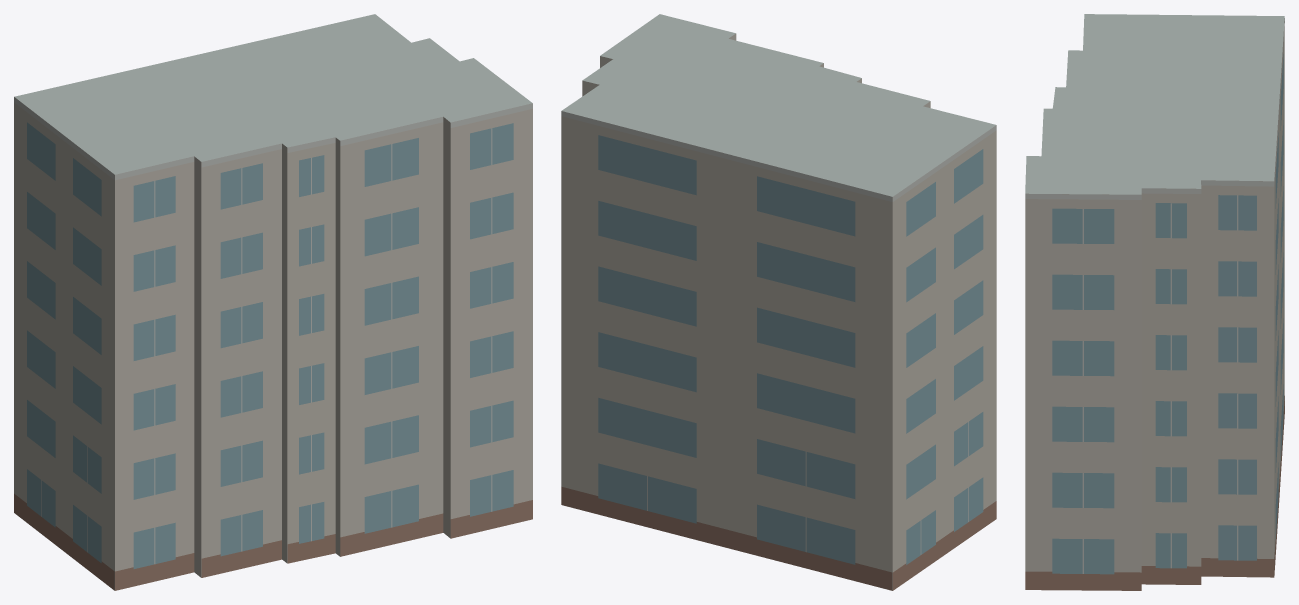
File: survey-upis-32656157.glb
3 views of the same model, side by side, from view 1: azimuth 30°, elevation 25°; view 2: azimuth 150°, elevation 25°; view 3: azimuth 270°, elevation 25° (orthographic). The views are drawn at different scales.
Visible parts, largest first — view 1: survey-upis-32656157.tmp; view 2: survey-upis-32656157.tmp; view 3: survey-upis-32656157.tmp.
Part boxes in pixels (x1,y1,x2,y2): survey-upis-32656157.tmp: (14,14,532,590); survey-upis-32656157.tmp: (561,14,996,590); survey-upis-32656157.tmp: (1025,14,1284,590).
Bounding box in the file's own units: 17.91 × 18.3 × 10.88.
